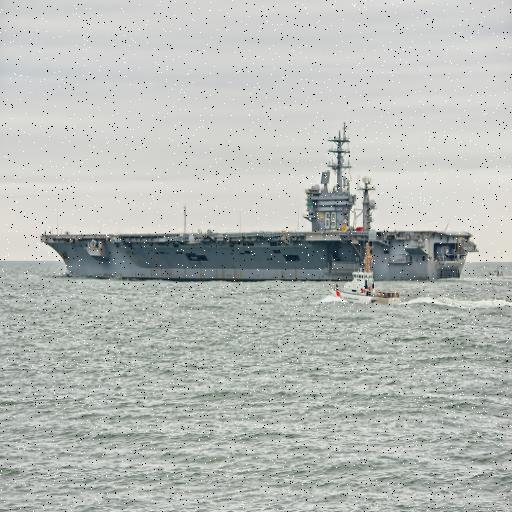Portanaves: (38, 122, 480, 286)
